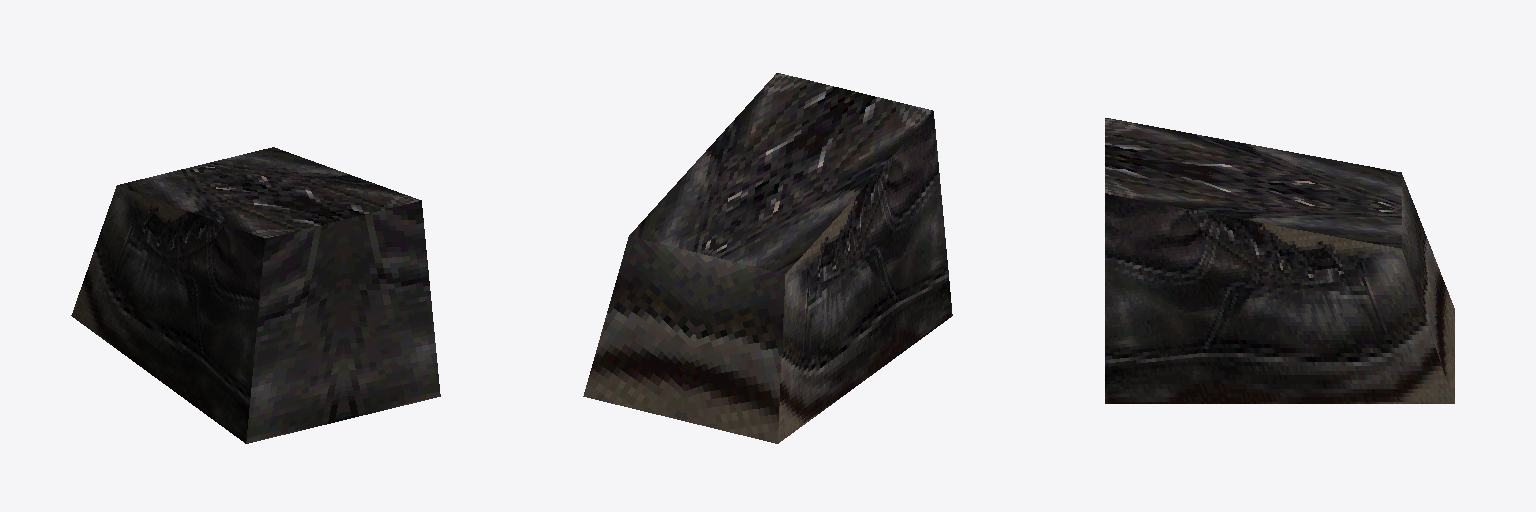
3 views of the same model, side by side, from view 1: azimuth 30°, elevation 25°; view 2: azimuth 150°, elevation 25°; view 3: azimuth 270°, elevation 25° (orthographic).
Visible parts, largest first — view 1: arm_jacket_boot_Cube.004; view 2: arm_jacket_boot_Cube.004; view 3: arm_jacket_boot_Cube.004.
Boxes of the visible parts, x1,y1,x2,y2 form: arm_jacket_boot_Cube.004: [71, 147, 440, 443]; arm_jacket_boot_Cube.004: [583, 73, 952, 443]; arm_jacket_boot_Cube.004: [1105, 118, 1454, 403].
Size of the model in its own units: 1.28 by 1.27 by 2.
1 materials, 1 textured.